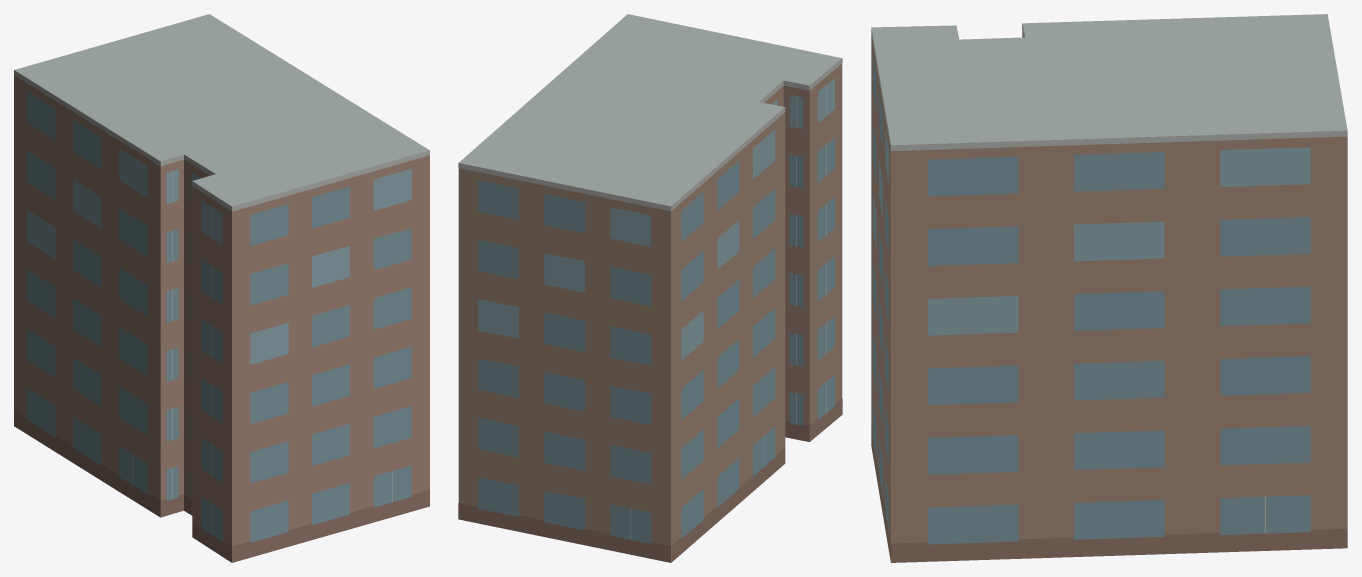
The model's file is survey-upis-32750112.glb.
3 renders of one model, left to right at view 1: azimuth 30°, elevation 25°; view 2: azimuth 150°, elevation 25°; view 3: azimuth 270°, elevation 25°, orthographic. The views are drawn at different scales.
Parts seen in each view (by area): view 1: survey-upis-32750112.tmp; view 2: survey-upis-32750112.tmp; view 3: survey-upis-32750112.tmp.
Boxes of the visible parts, x1,y1,x2,y2 form: survey-upis-32750112.tmp: (14, 14, 429, 562); survey-upis-32750112.tmp: (458, 14, 842, 562); survey-upis-32750112.tmp: (871, 14, 1347, 562).
Bounding box in the file's own units: 11.81 × 17.5 × 18.1.
